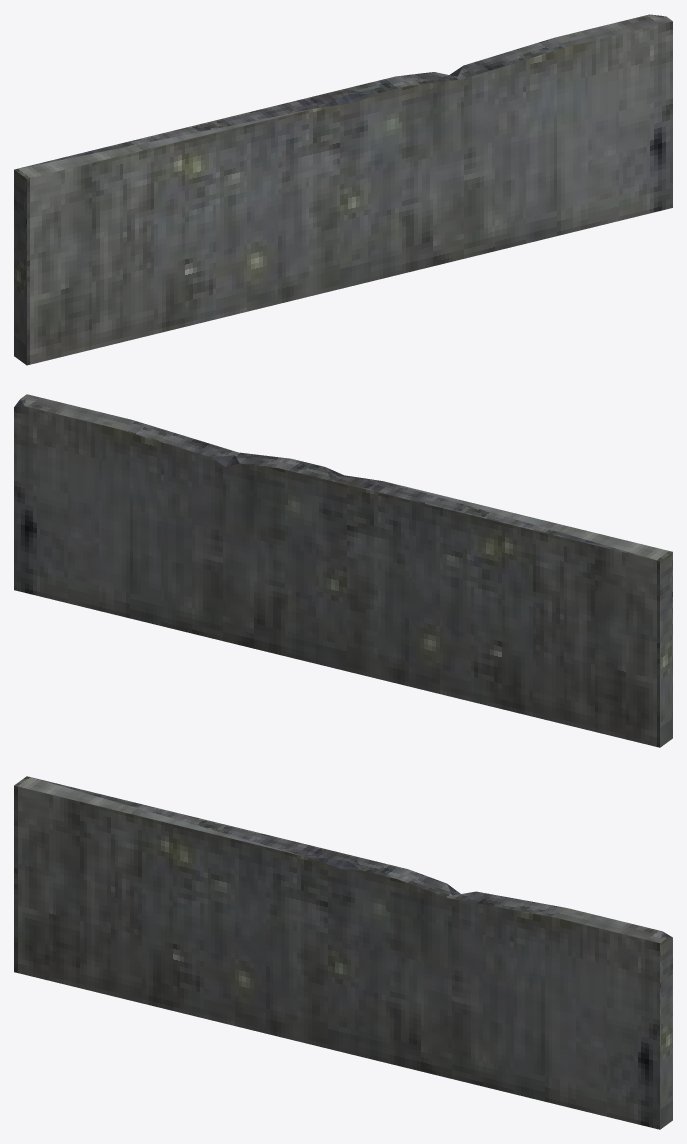
The model's file is lf_plackard_slab_chipped_b.glb.
3 renders of one model, top to bottom at view 1: azimuth 30°, elevation 25°; view 2: azimuth 150°, elevation 25°; view 3: azimuth 330°, elevation 25°, orthographic.
Visible parts, largest first — view 1: plackard_slab_chipped_alt; view 2: plackard_slab_chipped_alt; view 3: plackard_slab_chipped_alt.
Boxes of the visible parts, bbox=[...] form: plackard_slab_chipped_alt: bbox=[14, 14, 672, 365]; plackard_slab_chipped_alt: bbox=[14, 394, 672, 747]; plackard_slab_chipped_alt: bbox=[14, 776, 672, 1129].
Size of the model in its own units: 2.9 by 0.8002 by 0.0998.
1 material, 1 textured.
